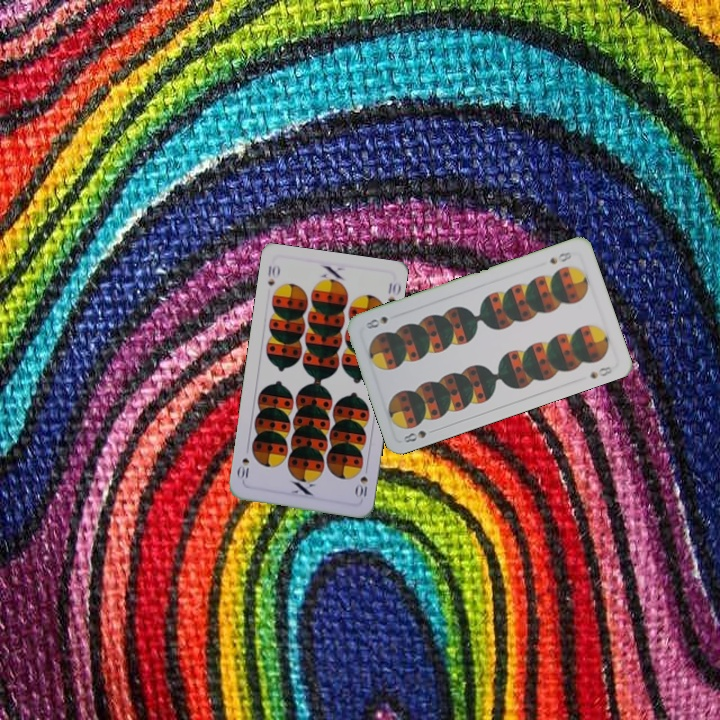S10: (352, 462, 371, 501), (264, 261, 282, 288)
S8: (399, 425, 439, 445), (545, 248, 574, 267)
